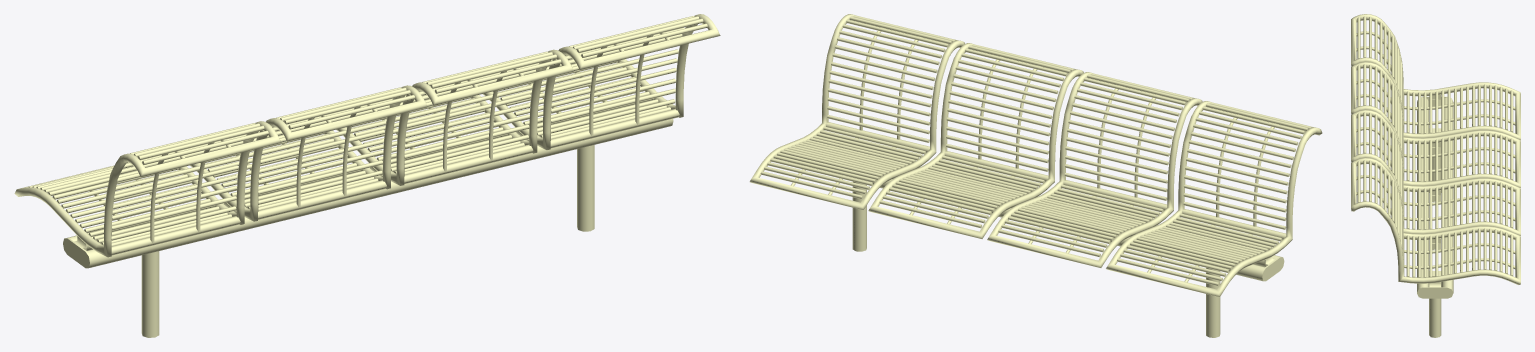
3 views of the same model, side by side, from view 1: azimuth 30°, elevation 25°; view 2: azimuth 150°, elevation 25°; view 3: azimuth 270°, elevation 25° (orthographic). The views are drawn at different scales.
Parts seen in each view (by area): view 1: mesh15_mesh15-geometry, mesh24_mesh24-geometry, mesh31_mesh31-geometry, mesh23_mesh23-geometry, mesh2_mesh2-geometry, mesh32_mesh32-geometry, mesh33_mesh33-geometry; view 2: mesh15_mesh15-geometry, mesh24_mesh24-geometry, mesh23_mesh23-geometry, mesh2_mesh2-geometry, mesh31_mesh31-geometry, mesh33_mesh33-geometry, mesh32_mesh32-geometry; view 3: mesh15_mesh15-geometry, mesh24_mesh24-geometry, mesh31_mesh31-geometry, mesh1_mesh1-geometry, mesh2_mesh2-geometry, mesh33_mesh33-geometry, mesh23_mesh23-geometry, mesh32_mesh32-geometry, mesh21_mesh21-geometry, mesh19_mesh19-geometry.
Boxes of the visible parts, box(x1,y1,x2,y2) form: mesh15_mesh15-geometry: box(28, 16, 707, 245); mesh24_mesh24-geometry: box(14, 14, 720, 257); mesh31_mesh31-geometry: box(63, 118, 673, 268); mesh23_mesh23-geometry: box(111, 108, 679, 255); mesh2_mesh2-geometry: box(150, 32, 669, 243); mesh32_mesh32-geometry: box(141, 251, 159, 337); mesh33_mesh33-geometry: box(577, 145, 594, 231); mesh15_mesh15-geometry: box(760, 15, 1311, 286); mesh24_mesh24-geometry: box(749, 14, 1322, 297); mesh23_mesh23-geometry: box(825, 122, 1286, 239); mesh2_mesh2-geometry: box(859, 30, 1279, 226); mesh31_mesh31-geometry: box(817, 169, 1284, 281); mesh33_mesh33-geometry: box(852, 181, 866, 251); mesh32_mesh32-geometry: box(1206, 268, 1220, 337); mesh15_mesh15-geometry: box(1357, 16, 1513, 277); mesh24_mesh24-geometry: box(1351, 14, 1520, 284); mesh31_mesh31-geometry: box(1417, 96, 1453, 298); mesh1_mesh1-geometry: box(1404, 99, 1515, 269); mesh2_mesh2-geometry: box(1356, 31, 1391, 214); mesh33_mesh33-geometry: box(1429, 271, 1441, 337); mesh23_mesh23-geometry: box(1403, 92, 1404, 275); mesh32_mesh32-geometry: box(1429, 128, 1441, 192); mesh21_mesh21-geometry: box(1429, 94, 1440, 287); mesh19_mesh19-geometry: box(1432, 99, 1440, 249).
Bounding box in the file's own units: 0.8819 × 0.3353 × 0.3315.
